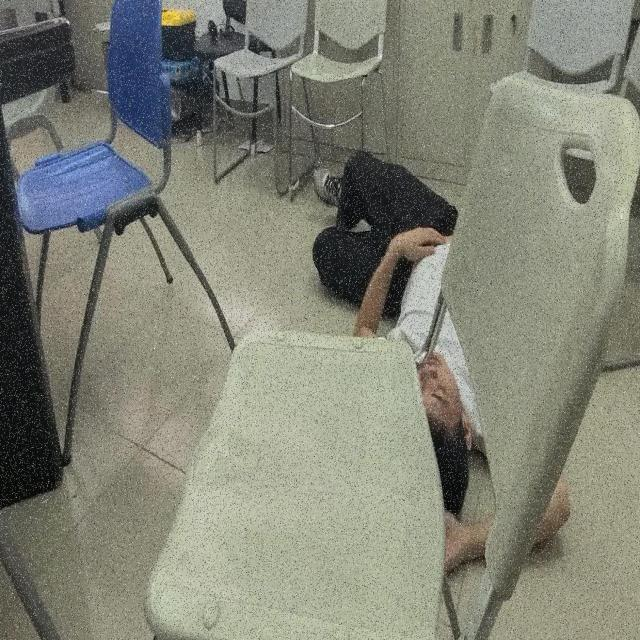fall: (309, 152, 572, 568)
